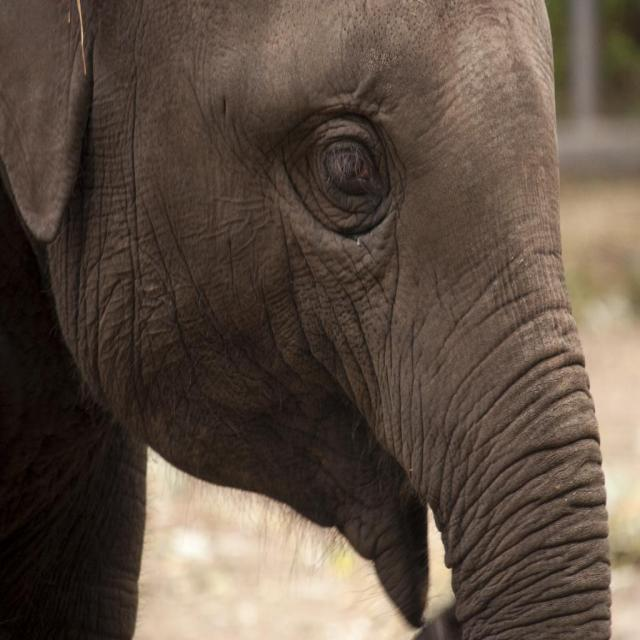Elephant: (0, 0, 610, 639)
